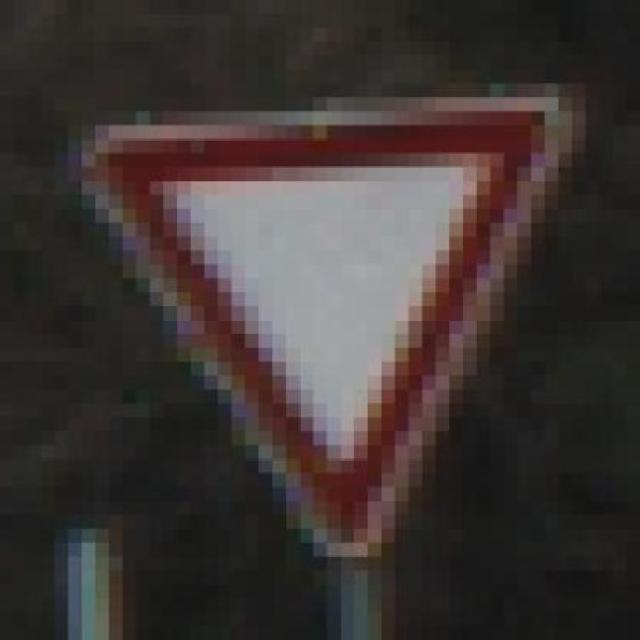Give Way: (68, 83, 586, 585)
